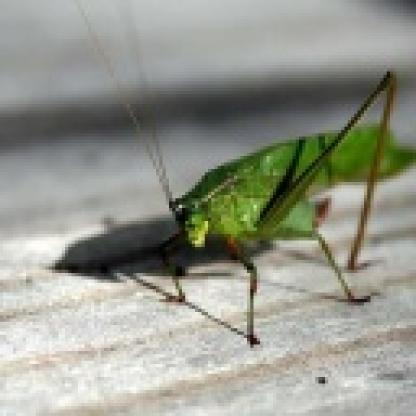grasshopper: (112, 69, 412, 348)
